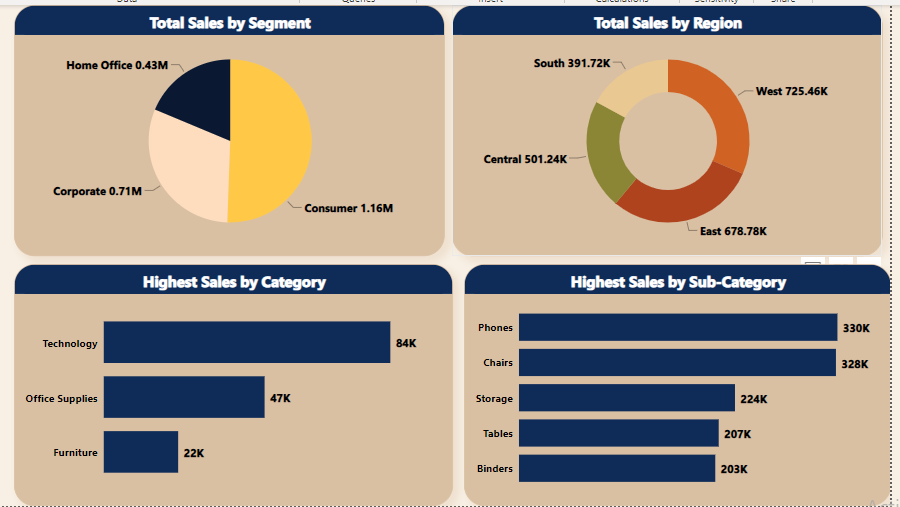

What the dashboard file says about the page in this screenshot:
{"tool":"powerbi","page":{"name":"Page 2","canvas":[1280,720],"ordinal":1},"visuals":[{"type":"pieChart","fields":{"Category":["DimSegment.Segment"],"Y":["DAX.Total Sales"]},"box":[20.1,0,619.4,360.7],"z":0},{"type":"barChart","title":"Highest Sales by Category","fields":{"Category":["Dim Product.Category"],"Y":["DAX.Total Sales"]},"box":[20.1,372.2,630.9,347.8],"z":1000},{"type":"donutChart","fields":{"Category":["DimLocation.Region"],"Y":["DAX.Total Sales"]},"box":[649,0,619,361],"z":2000},{"type":"clusteredBarChart","title":"Highest Sales by Sub-Category","fields":{"Category":["Dim Product.Sub-Category"],"Y":["DAX.Total Sales"]},"box":[666.8,372.2,613.7,347.8],"z":3000}]}

Visuals, with their boxes on the page's 1280x720 design canvas (x1, y1, x2, y2). These are canvas units, not pixel positions in the 900x507 screenshot, which may show the page scaled, cropped or inside an application window:
pieChart - DimSegment.Segment x DAX.Total Sales: Rect(20, 0, 640, 361)
"Highest Sales by Category" barChart: Rect(20, 372, 651, 720)
donutChart - DimLocation.Region x DAX.Total Sales: Rect(649, 0, 1268, 361)
"Highest Sales by Sub-Category" clusteredBarChart: Rect(667, 372, 1280, 720)
